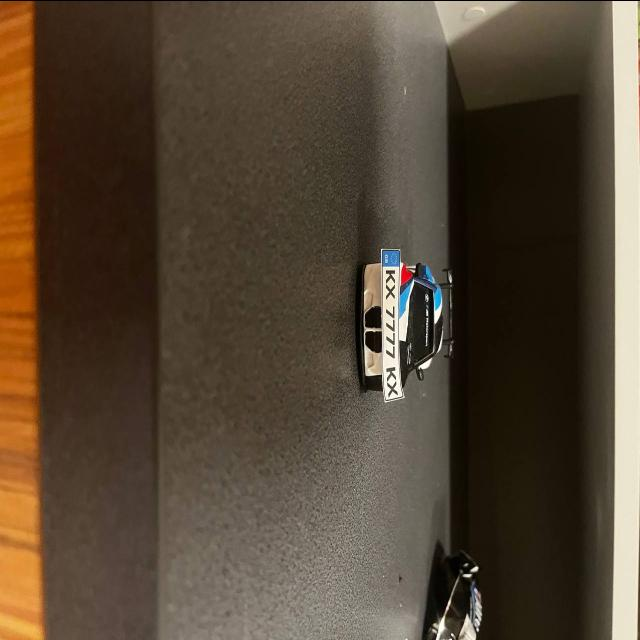cars: (351, 242, 464, 409)
